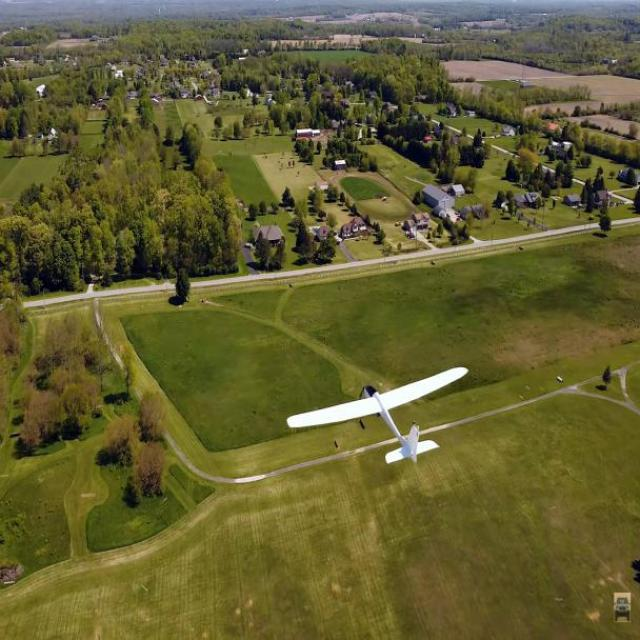iha: (279, 394, 471, 436)
